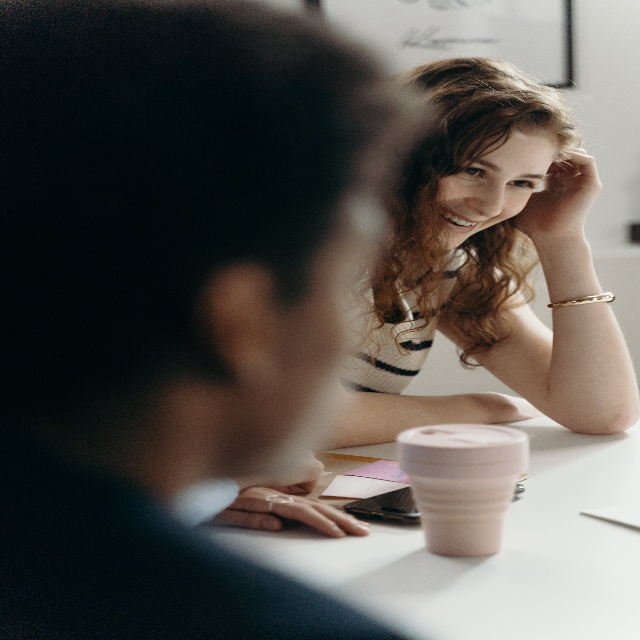Sin_guantes: (521, 152, 600, 250), (223, 490, 368, 538)
